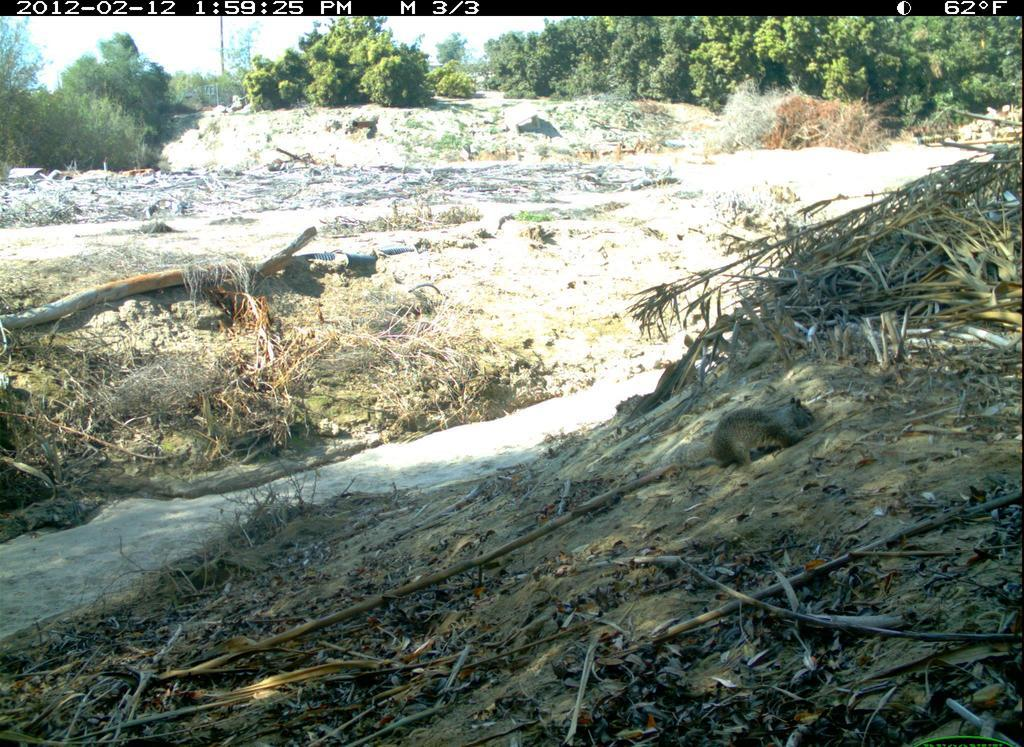squirrel: (675, 391, 820, 475)
